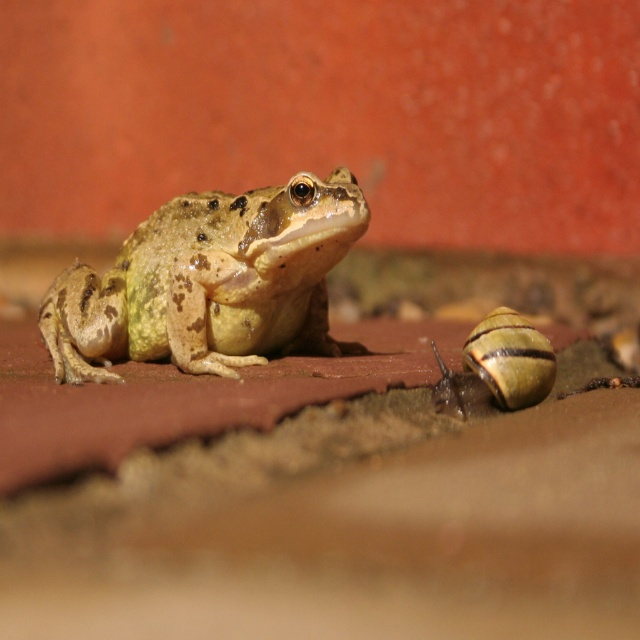Frog: (36, 162, 372, 386)
